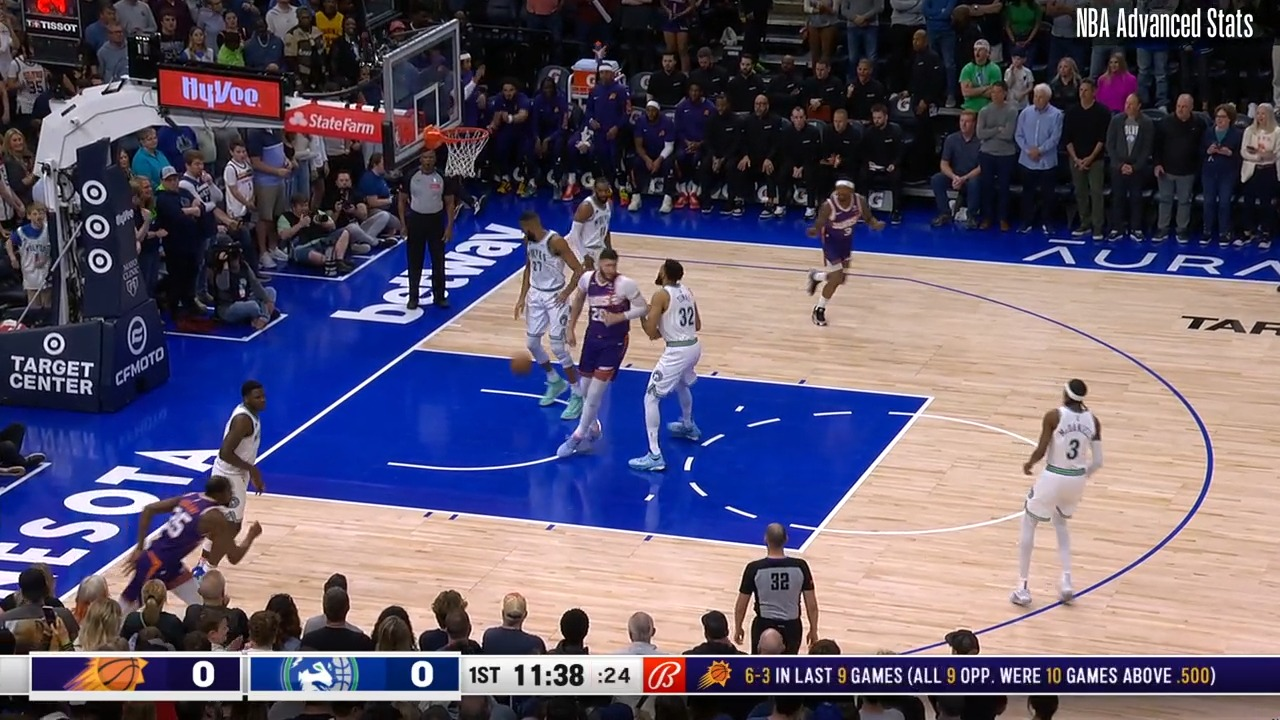basketball: (507, 351, 534, 378)
